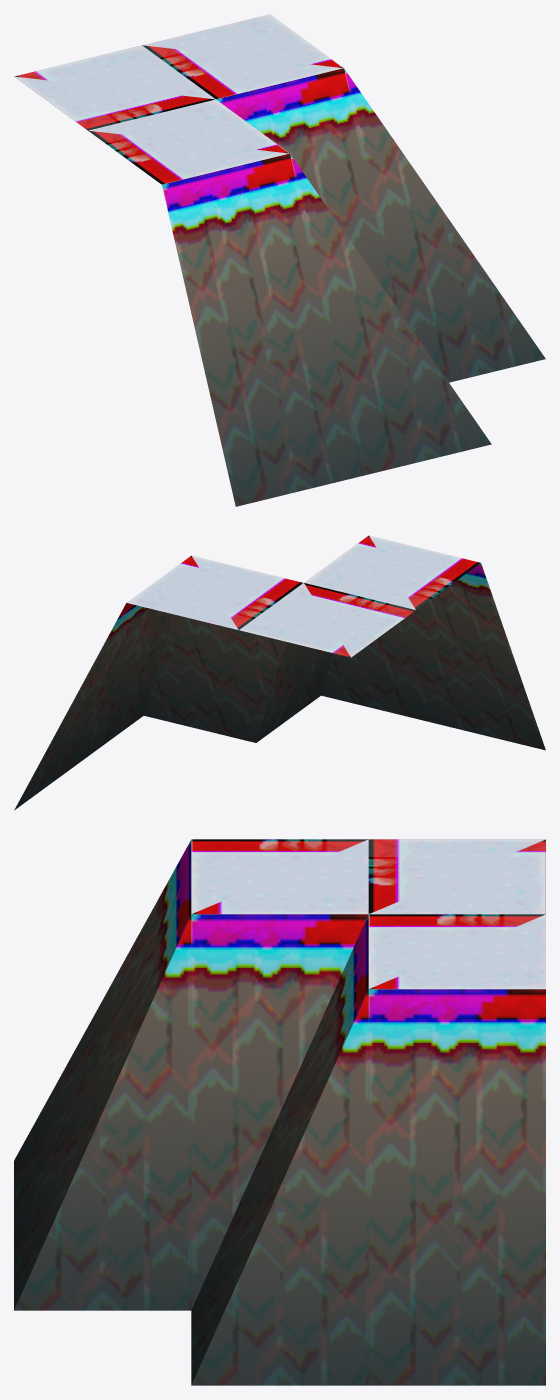
The model's file is arch_winter_wall_cornerOutIn.FBX.
The picture shows the model from 3 angles, top to bottom: view 1: azimuth 30°, elevation 25°; view 2: azimuth 150°, elevation 25°; view 3: azimuth 270°, elevation 25°; orthographic projection. The views are drawn at different scales.
Parts seen in each view (by area): view 1: arch_winter_wall_cornerOutIn; view 2: arch_winter_wall_cornerOutIn; view 3: arch_winter_wall_cornerOutIn.
Part boxes in pixels (bbox=[...]): arch_winter_wall_cornerOutIn: bbox=[14, 14, 545, 506]; arch_winter_wall_cornerOutIn: bbox=[14, 535, 545, 810]; arch_winter_wall_cornerOutIn: bbox=[14, 839, 545, 1385].
Size of the model in its own units: 6 by 4 by 6.
Materials: 1 (1 with a texture image).
